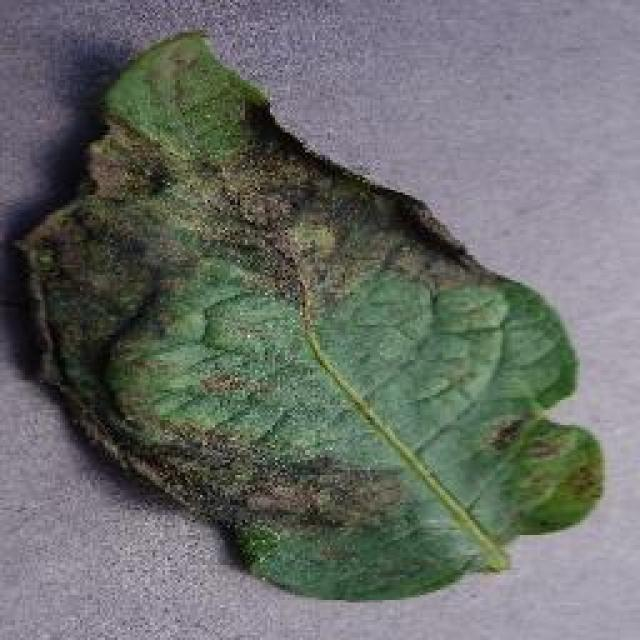late_blight: (10, 25, 608, 605)
